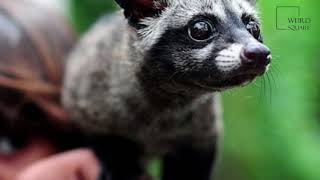Civet: (121, 1, 278, 111)
